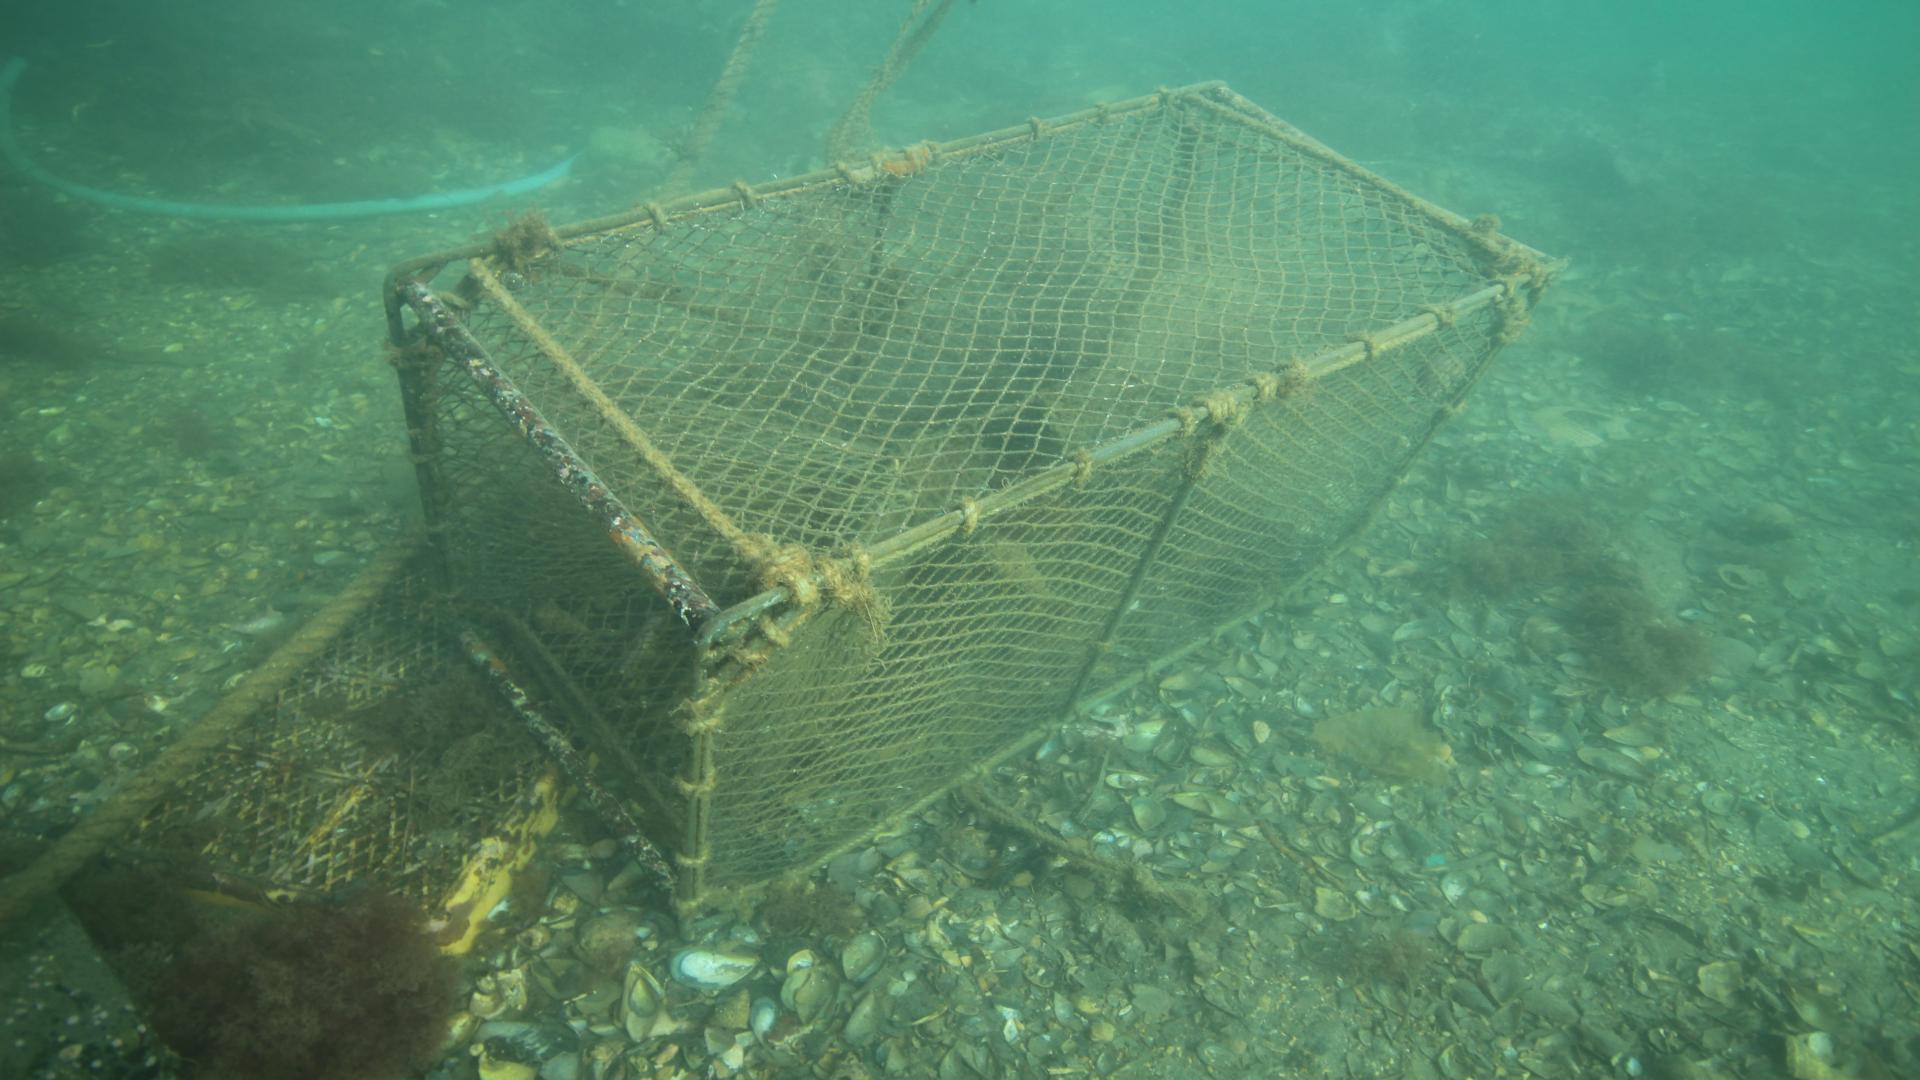bundle of ropes: (696, 0, 967, 135)
rectangular fish trap: (378, 76, 1568, 949)
rope: (0, 517, 421, 914)
